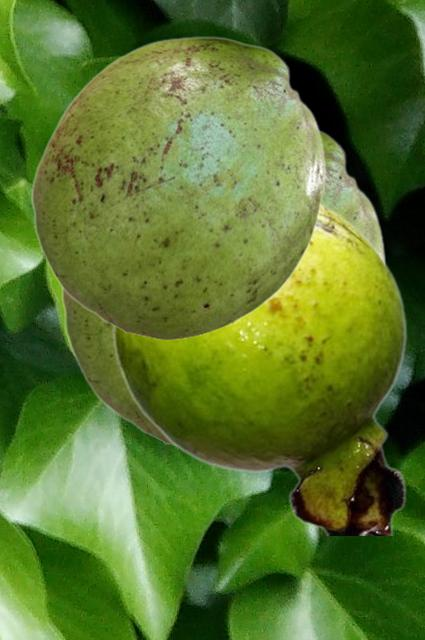guava: (60, 128, 385, 448), (112, 202, 407, 534), (30, 36, 325, 339)
